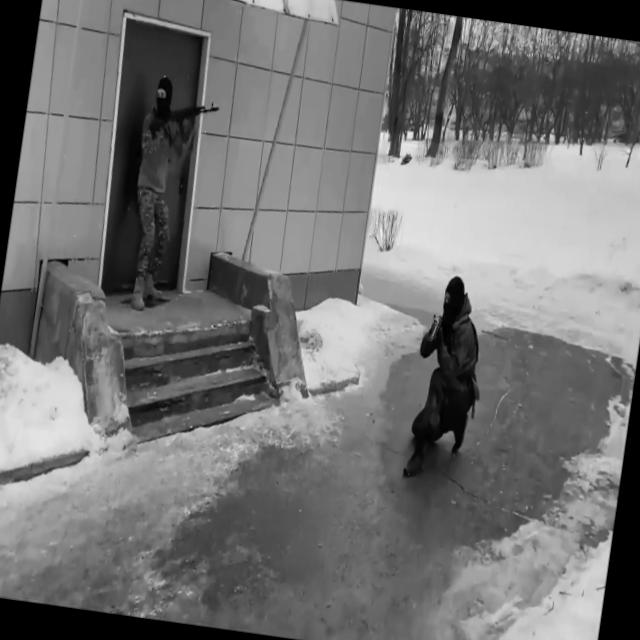gun: (148, 93, 220, 145), (426, 312, 444, 350)
person with a gun: (117, 74, 223, 318), (402, 272, 492, 486)
